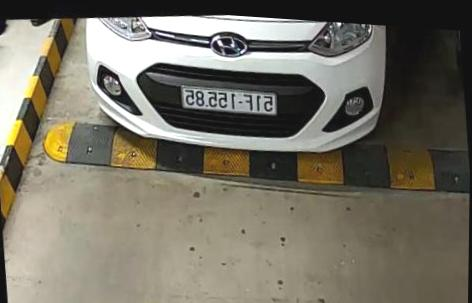License_Plate: (175, 77, 281, 126)
